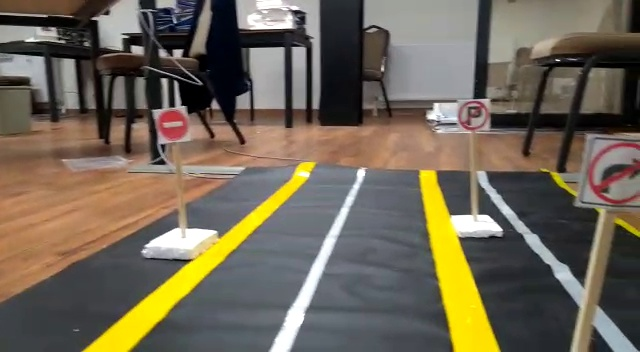girisi_olmayan_yol: (158, 107, 190, 143)
park_yapilmaz: (457, 100, 492, 131)
saga_donulmez: (580, 133, 640, 206)
